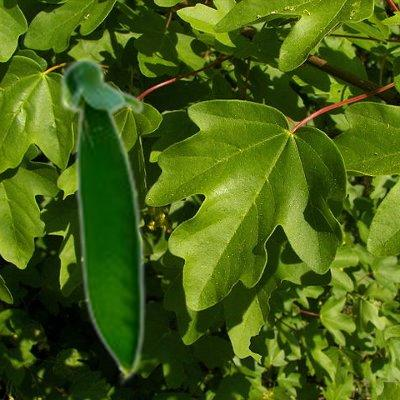pea: (58, 55, 145, 385)
